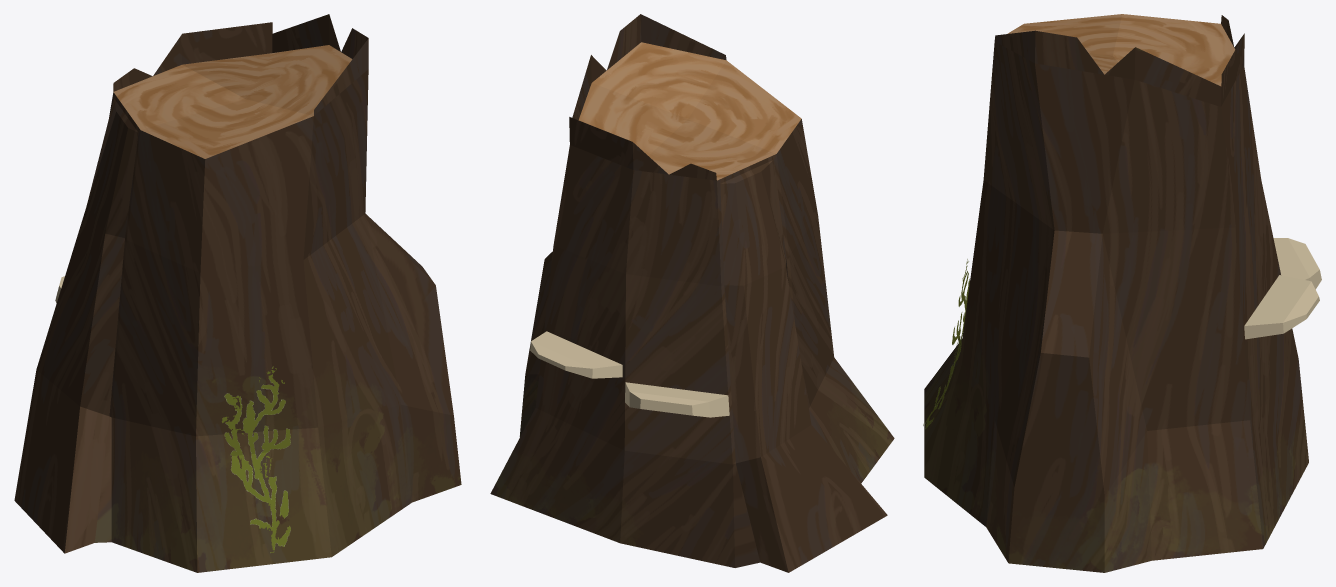
File: 1D_Tree_Stump.fbx
3 views of the same model, side by side, from view 1: azimuth 30°, elevation 25°; view 2: azimuth 150°, elevation 25°; view 3: azimuth 270°, elevation 25° (orthographic). The views are drawn at different scales.
Visible parts, largest first — view 1: Cube; view 2: Cube; view 3: Cube.
Boxes of the visible parts, <box> form: Cube: <box>14,14,461,572</box>; Cube: <box>490,14,894,572</box>; Cube: <box>923,14,1321,572</box>.
Bounding box in the file's own units: 0.834 × 0.9767 × 0.6988.
